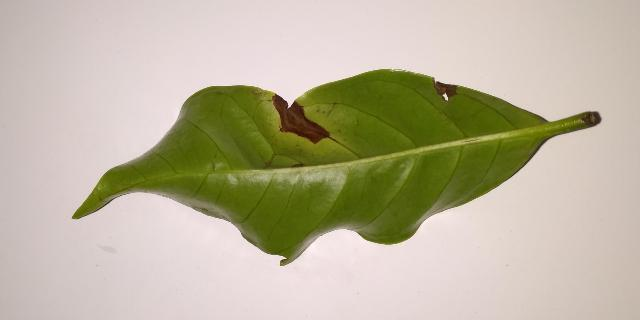rust: (272, 93, 331, 143), (432, 78, 459, 101)
